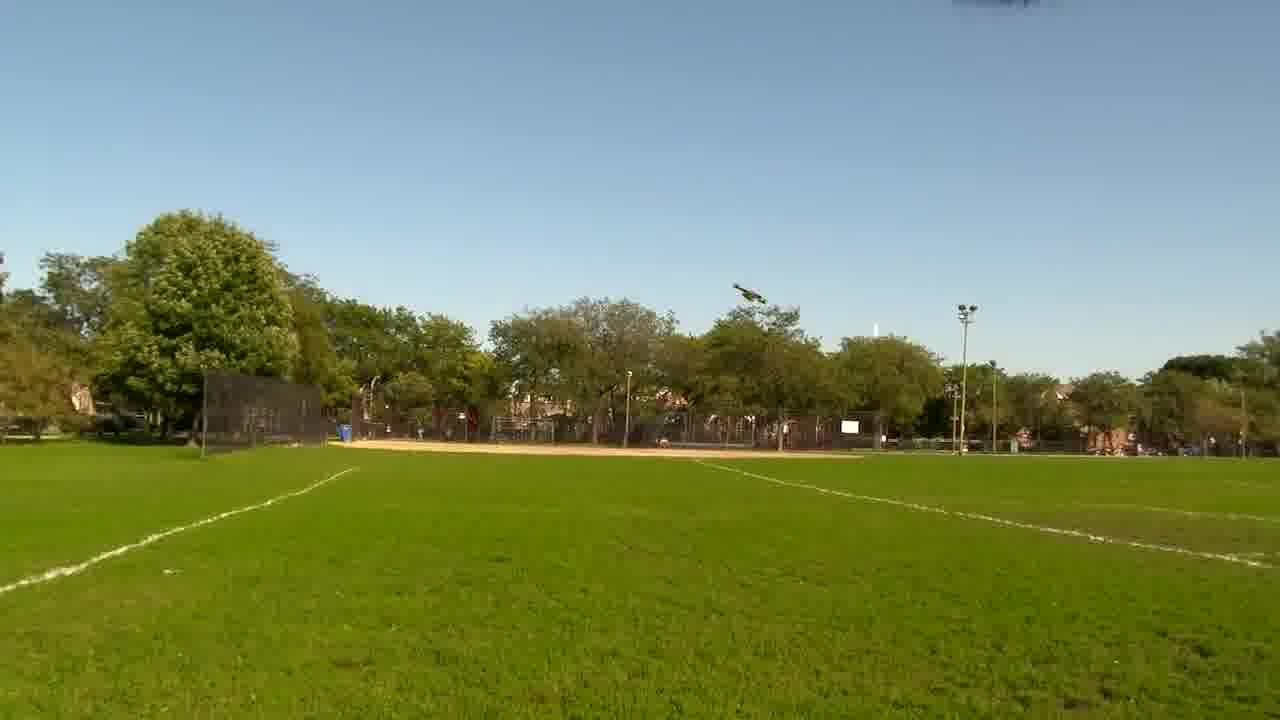drone: (726, 272, 772, 306)
